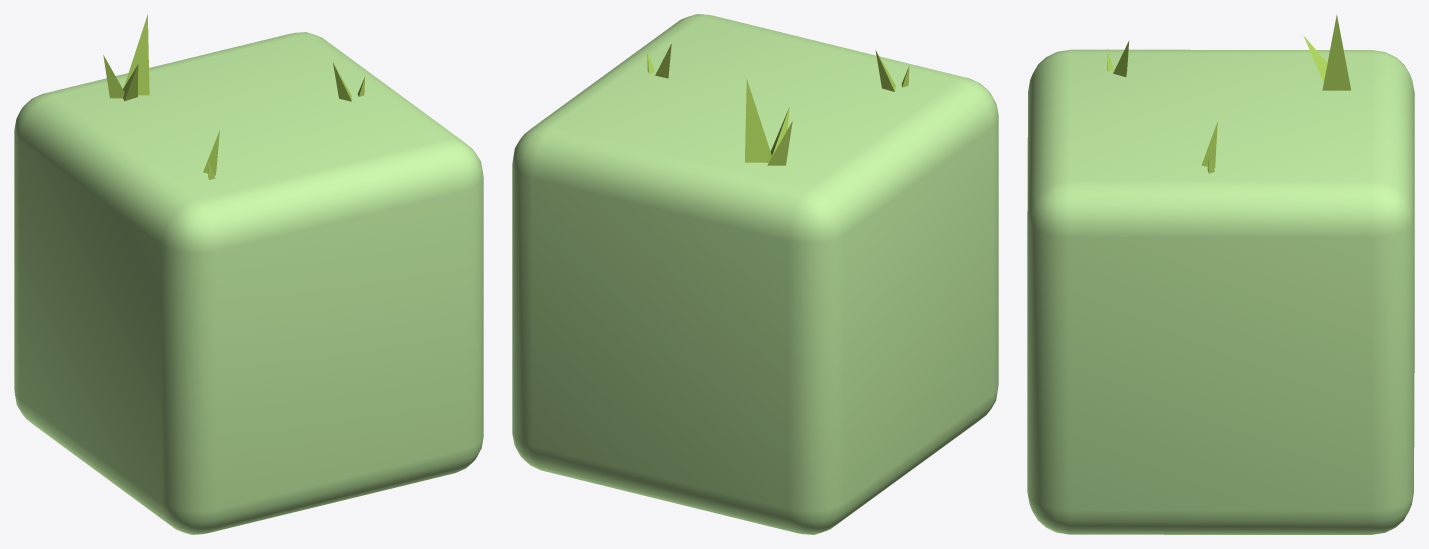
Rendered from safe3.fbx.
3 renders of one model, left to right at view 1: azimuth 30°, elevation 25°; view 2: azimuth 150°, elevation 25°; view 3: azimuth 270°, elevation 25°, orthographic. The views are drawn at different scales.
Parts seen in each view (by area): view 1: Cube.034; view 2: Cube.034; view 3: Cube.034.
Boxes of the visible parts, left/top/right/bottom form: Cube.034: left=14, top=14, right=483, bottom=534; Cube.034: left=512, top=14, right=998, bottom=534; Cube.034: left=1027, top=14, right=1414, bottom=534.
Size of the model in its own units: 200 by 245 by 200.
